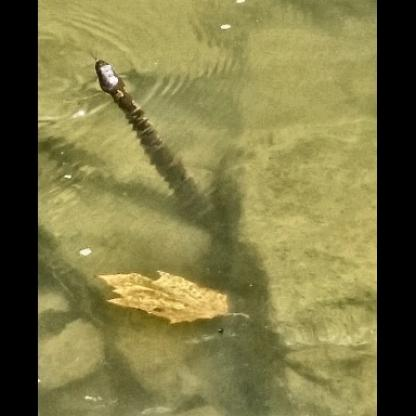Snake: (92, 54, 224, 237)
